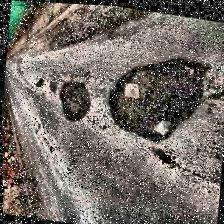pothole: (99, 42, 215, 148), (53, 76, 93, 122)
